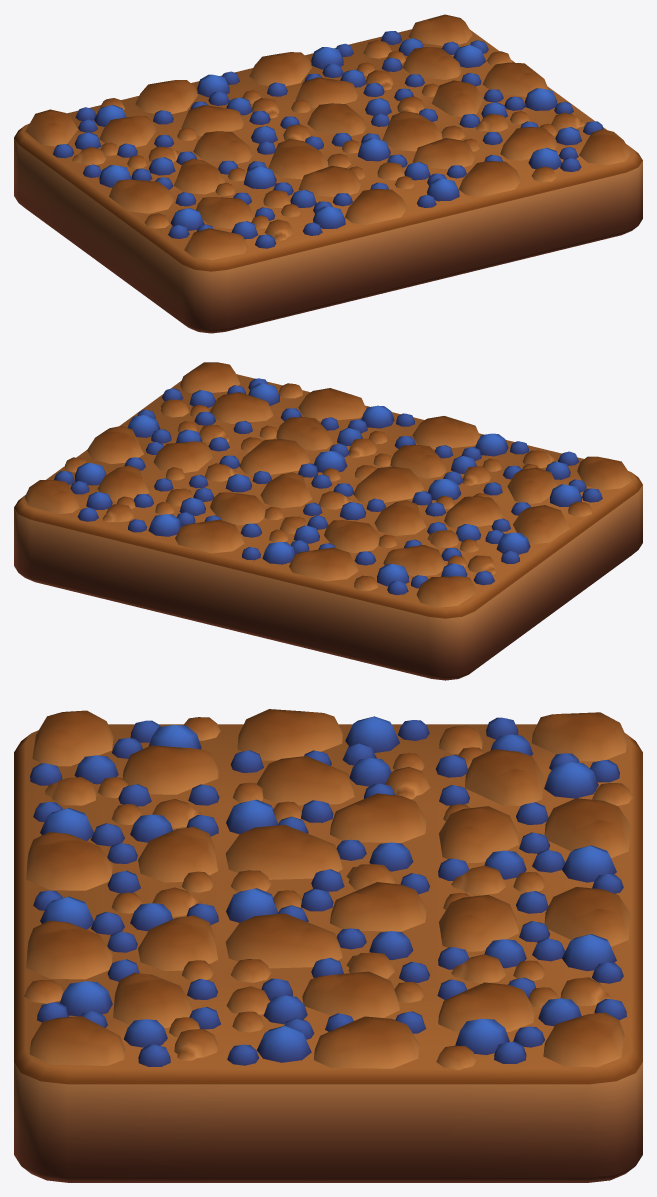
The model's file is m_SheetCake03.fbx.
3 views of the same model, one above another, from view 1: azimuth 30°, elevation 25°; view 2: azimuth 150°, elevation 25°; view 3: azimuth 270°, elevation 25° (orthographic). The views are drawn at different scales.
Visible parts, largest first — view 1: m_SheetCake03; view 2: m_SheetCake03; view 3: m_SheetCake03.
Part boxes in pixels (x1,y1,x2,y2): m_SheetCake03: (14, 14, 642, 333); m_SheetCake03: (14, 362, 642, 680); m_SheetCake03: (14, 709, 642, 1182).
Size of the model in its own units: 40 by 7.57 by 30.
